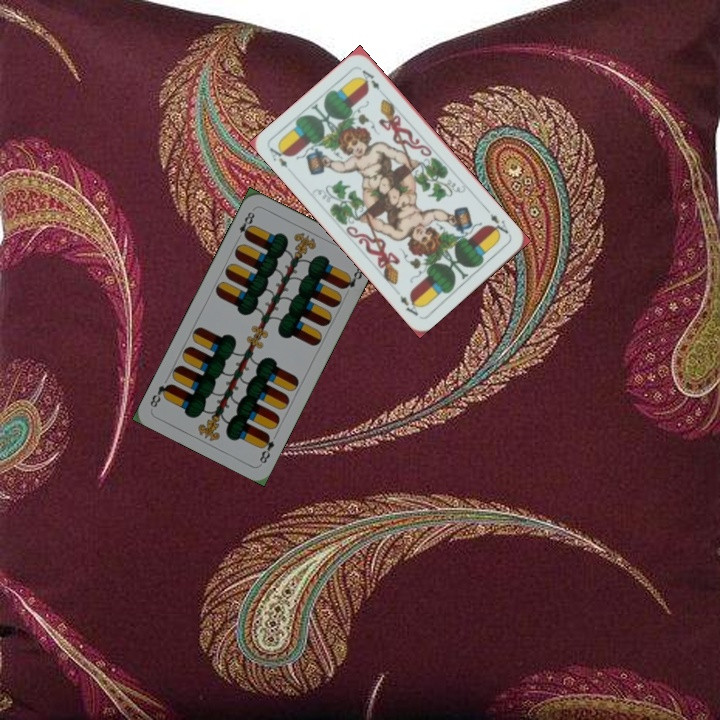E8: (232, 206, 257, 243), (255, 429, 277, 466)
EA: (482, 205, 511, 239), (265, 142, 291, 170)
